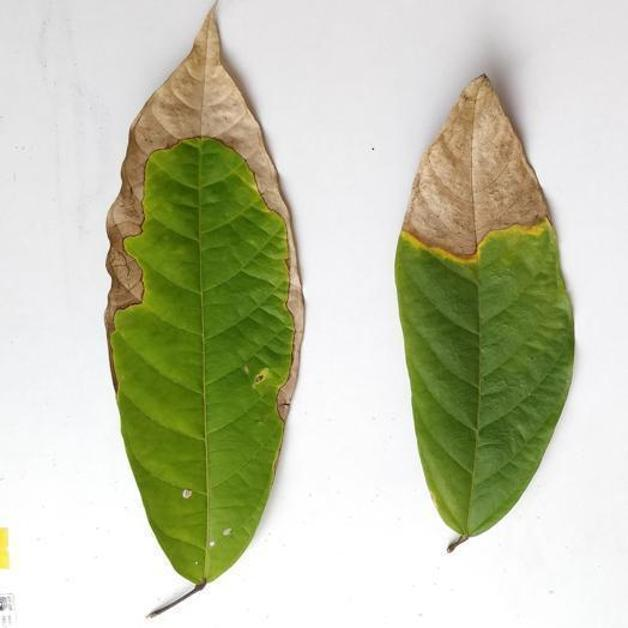Potassium: (106, 10, 303, 616), (396, 75, 573, 550)
